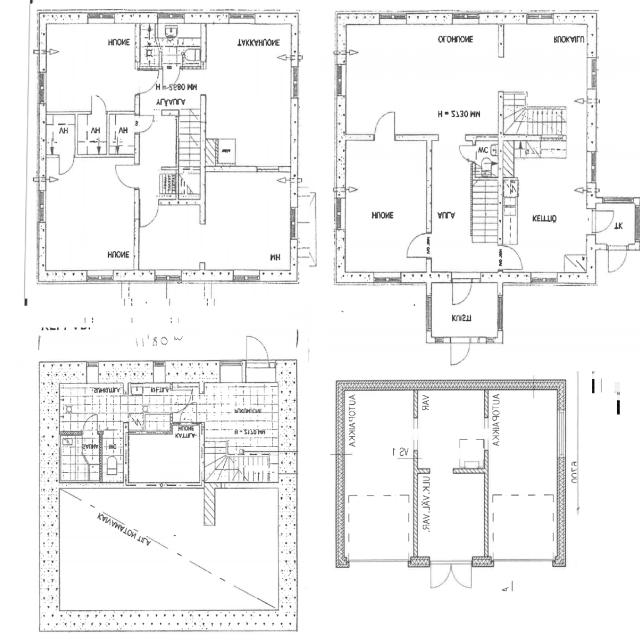door: (246, 335, 268, 382), (431, 558, 451, 592), (451, 558, 471, 592), (498, 246, 524, 270), (406, 233, 432, 257), (586, 211, 614, 233), (453, 272, 471, 305), (608, 243, 627, 273), (115, 165, 140, 187), (375, 112, 394, 140), (134, 71, 158, 93), (140, 199, 158, 226), (170, 390, 192, 412), (452, 336, 469, 364), (180, 402, 197, 426), (163, 66, 180, 89), (59, 154, 74, 176), (108, 94, 123, 115), (84, 414, 98, 434), (460, 146, 476, 160)
